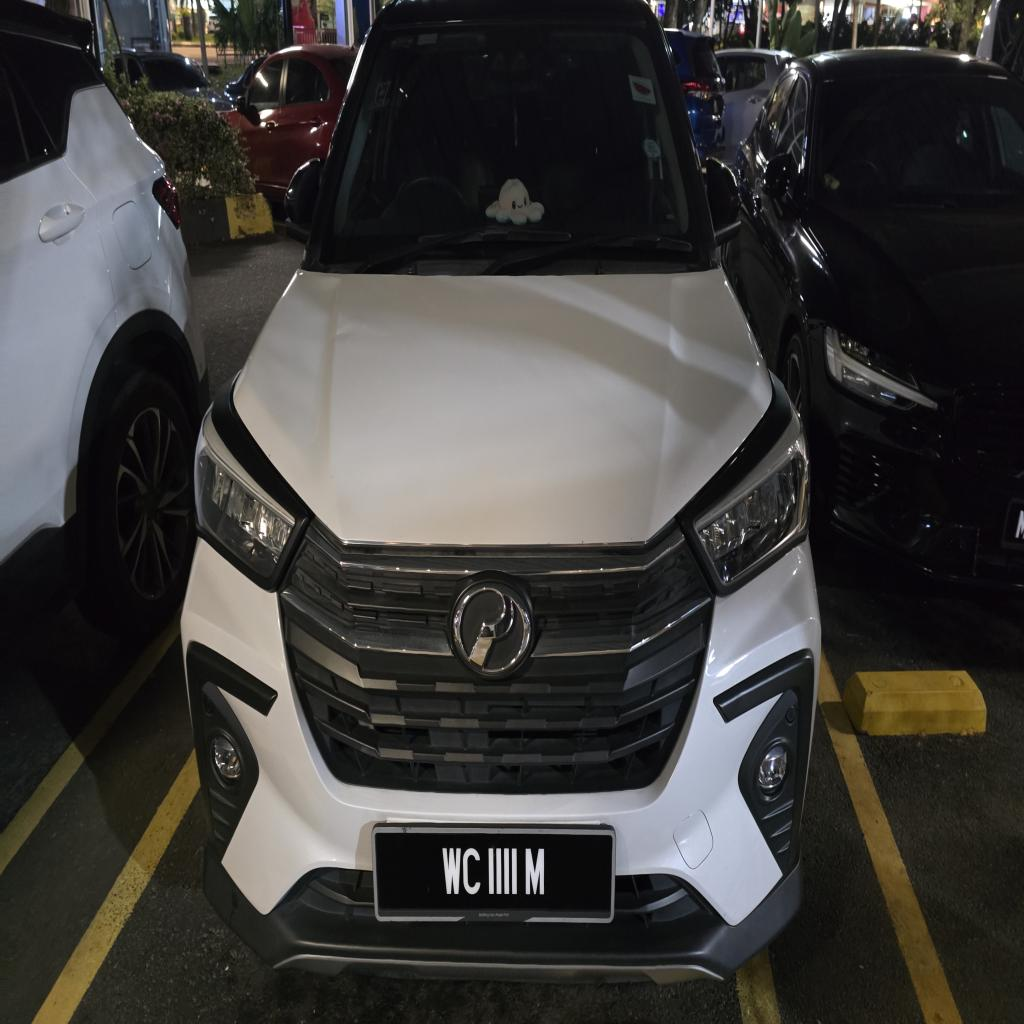car: (181, 0, 819, 981)
car plate: (372, 824, 615, 922)
